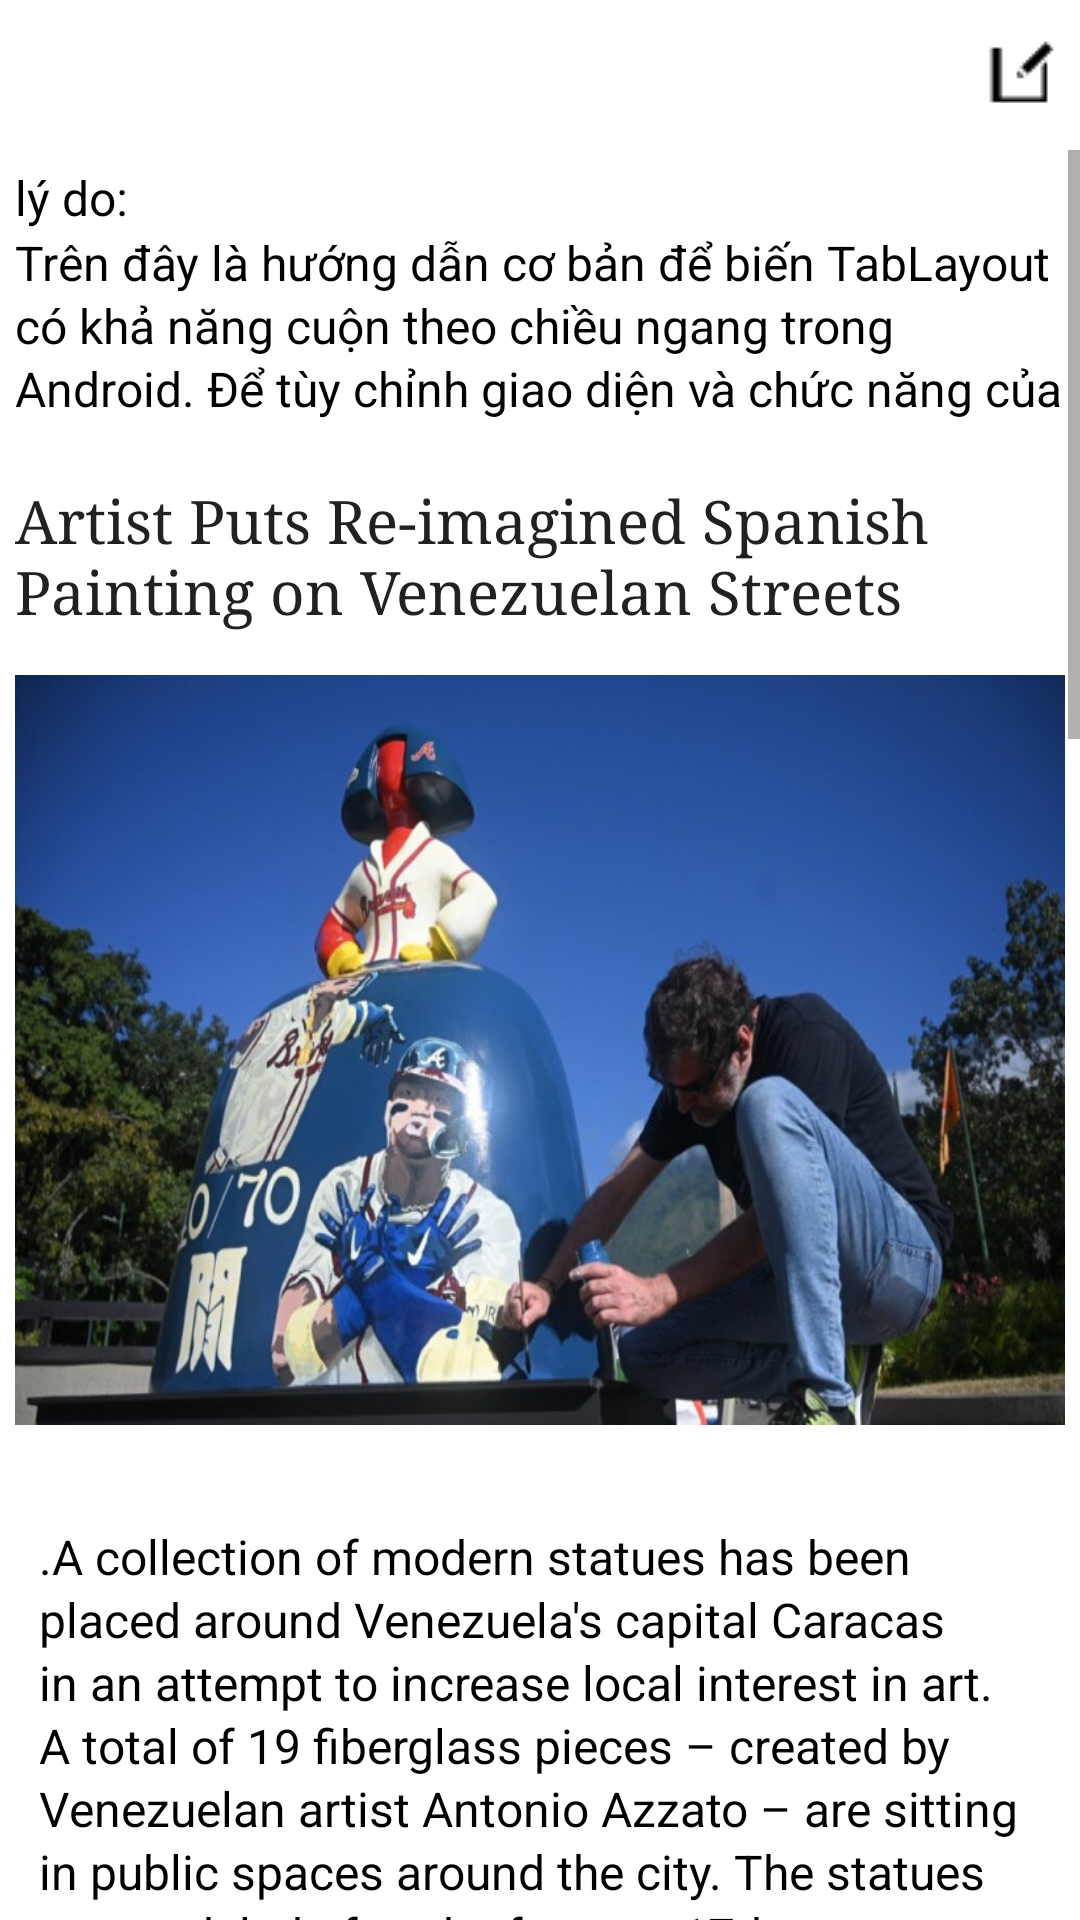

Point at icon controls on the screen. Image size 1080x1920, points as (x=x, y=y).
icedit: (x=1021, y=72)
